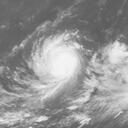cyclone: (26, 32, 83, 89)
